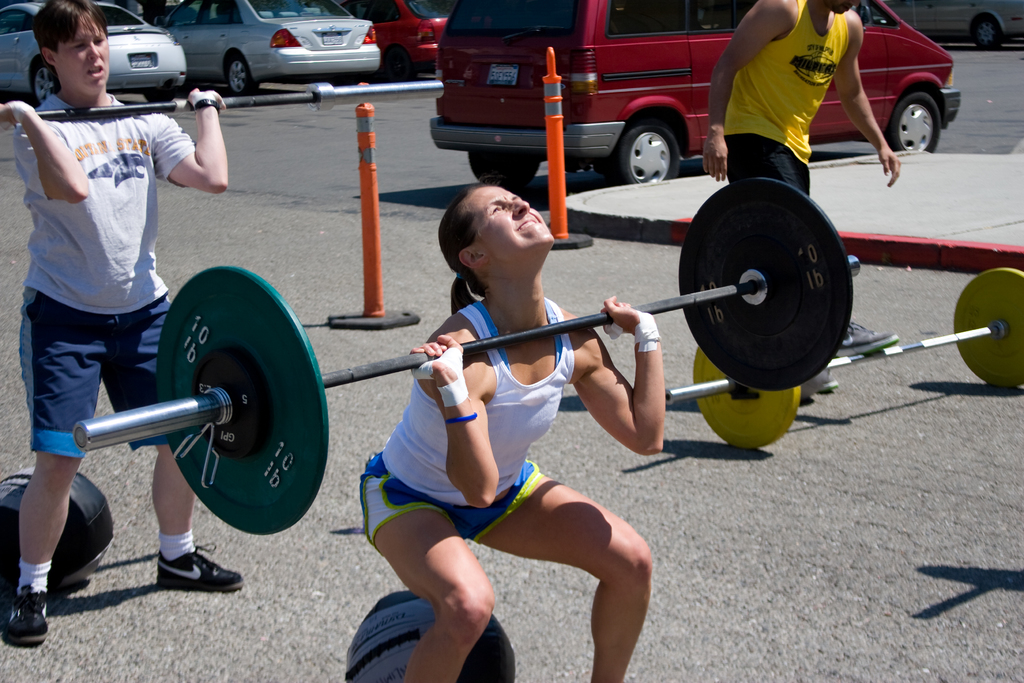Person: (0, 0, 244, 644), (359, 169, 665, 682)
